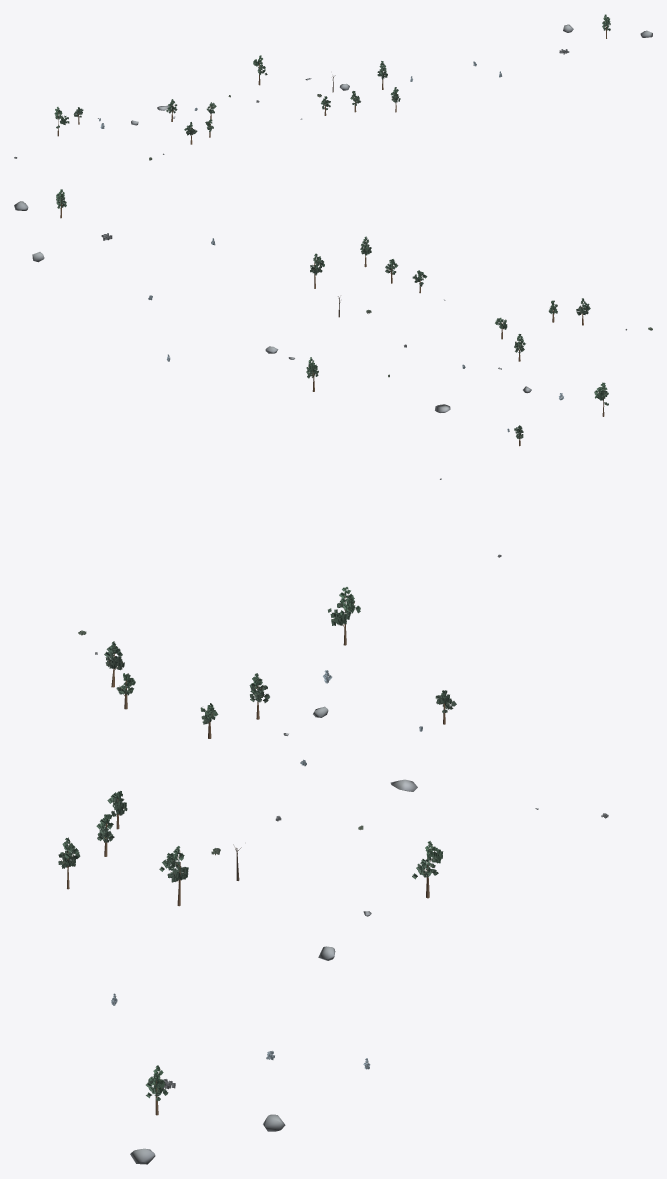
The model's file is frost_land_scatter_c18_08.glb.
The picture shows the model from 3 angles, top to bottom: view 1: azimuth 30°, elevation 25°; view 2: azimuth 150°, elevation 25°; view 3: azimuth 270°, elevation 25°; orthographic projection. The views are drawn at different scales.
Parts seen in each view (by area): view 1: frost_land_scatter_c18_08; view 2: frost_land_scatter_c18_08; view 3: frost_land_scatter_c18_08.
Part boxes in pixels (bbox=[...]): frost_land_scatter_c18_08: bbox=[14, 14, 652, 160]; frost_land_scatter_c18_08: bbox=[14, 189, 652, 557]; frost_land_scatter_c18_08: bbox=[58, 587, 608, 1164].
Size of the model in its own units: 252 by 49.99 by 109.
